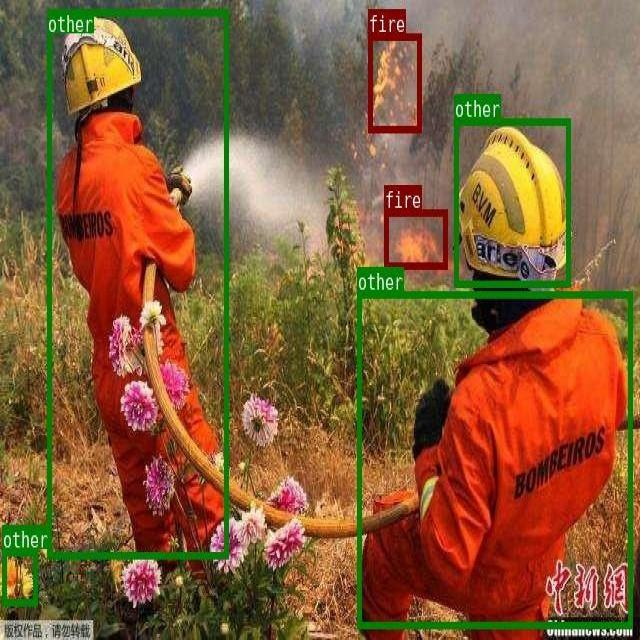fire: (367, 33, 421, 131), (384, 209, 447, 267)
